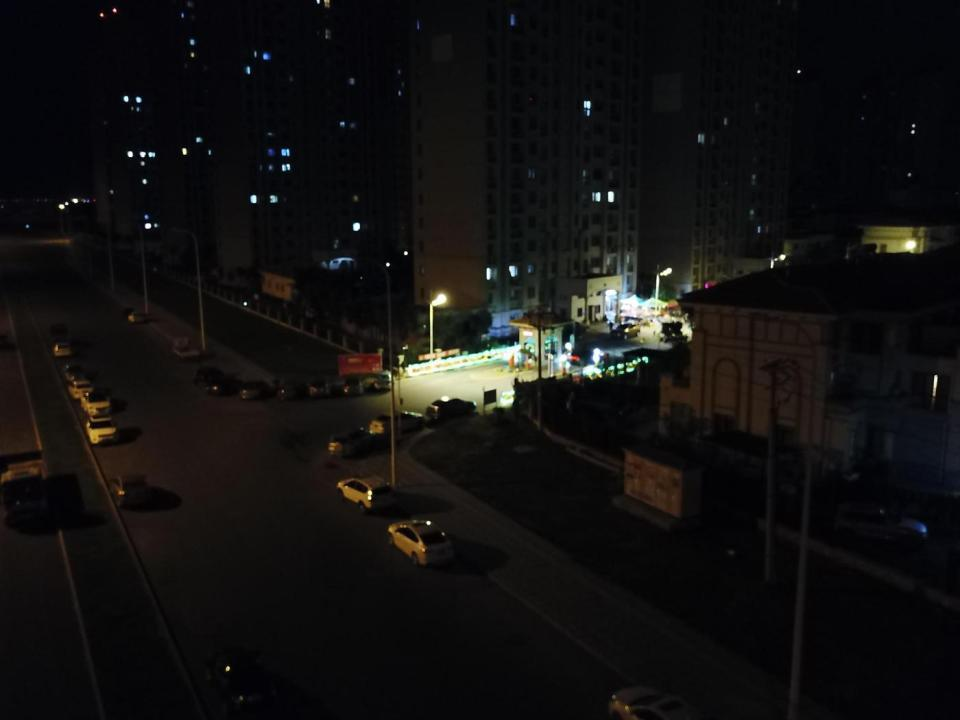car: (204, 648, 281, 716), (832, 504, 928, 553), (610, 685, 708, 720), (387, 519, 455, 566), (336, 475, 396, 514), (328, 428, 387, 457), (369, 410, 425, 435), (108, 474, 150, 507), (425, 396, 477, 419), (85, 416, 119, 445), (81, 392, 112, 416), (208, 377, 243, 396), (276, 380, 308, 400), (239, 380, 270, 400), (67, 379, 95, 401), (194, 367, 224, 386), (309, 378, 335, 398), (612, 323, 641, 339), (374, 369, 394, 390), (62, 364, 85, 382), (343, 376, 364, 395), (53, 340, 71, 356), (128, 311, 146, 324)
truck: (0, 448, 52, 528), (172, 338, 201, 362)
